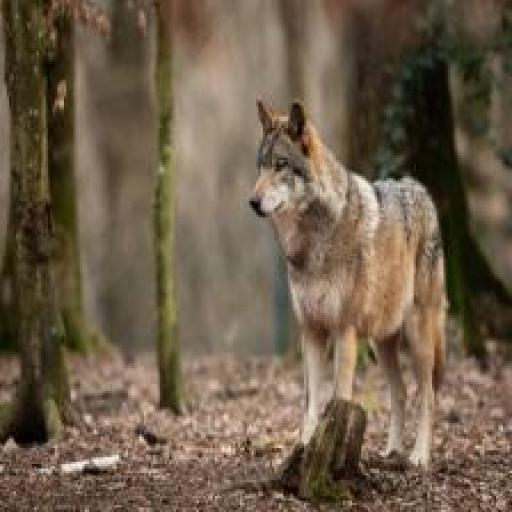wolf: (226, 89, 497, 461)
